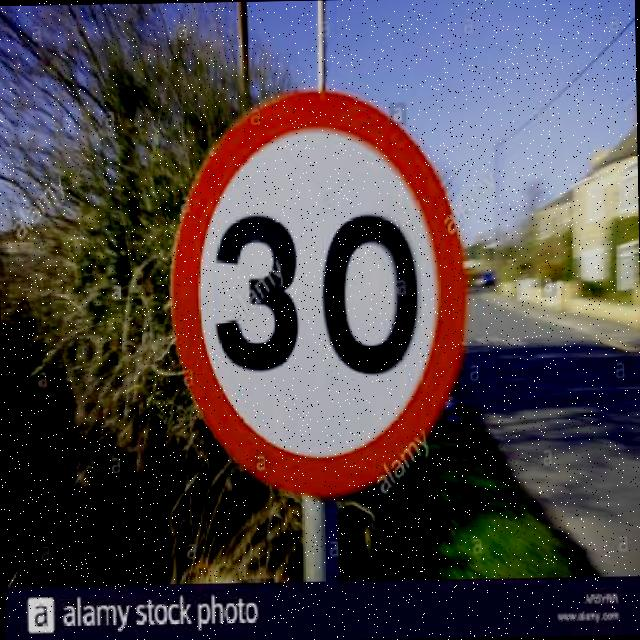Ograniczenie predkosci do 30: (172, 101, 486, 491)
